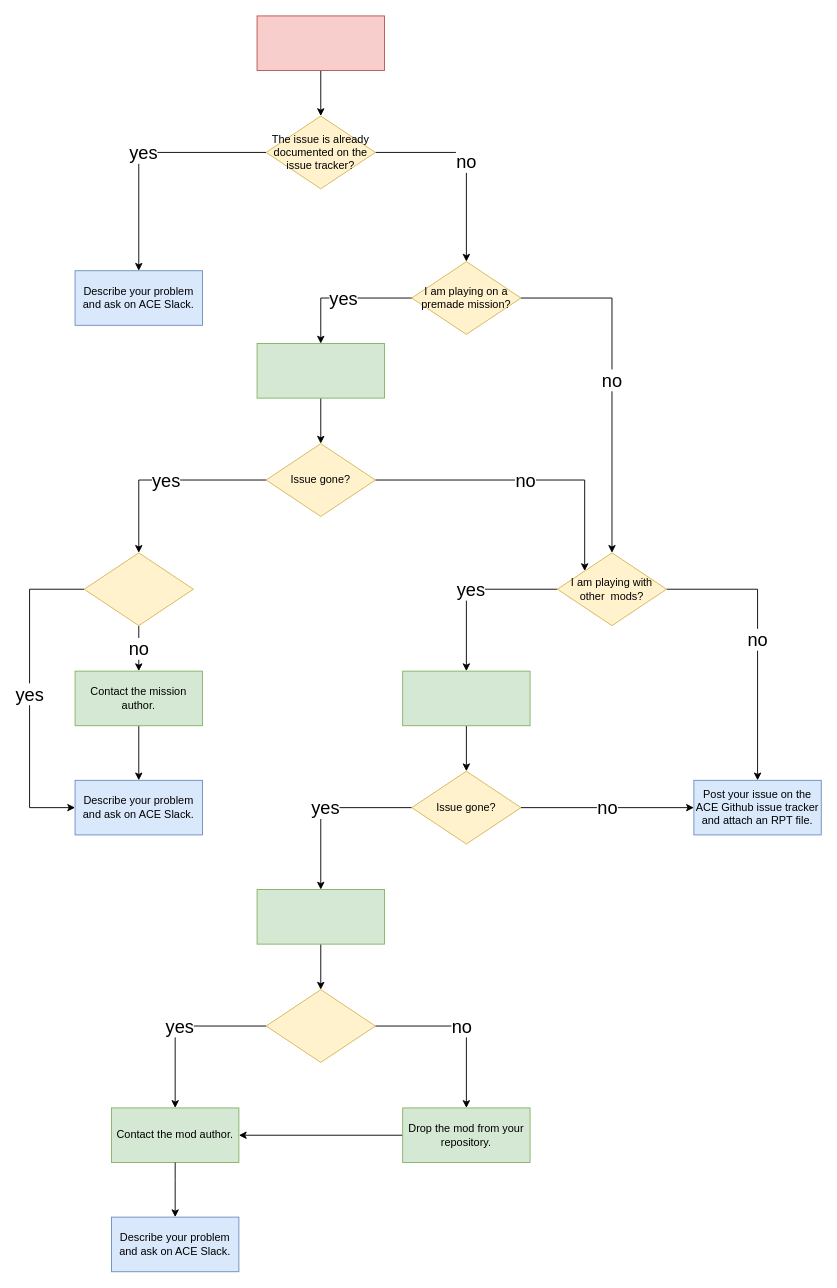
Image size: 837x1288. Some labels were removed from this diagram. Each missing label, with the centre of its shape:
"Disable all mods except CBA and ACE." goes at (466,698).
"Enable mod by mod until the issue re-appears." goes at (320,916).
"I created this mission myself?" goes at (138,589).
"I encountered an issue with ACE." goes at (320,43).
"Retry on a newly created mission." goes at (320,370).
"The faulty mod is a popular one." goes at (320,1025).
